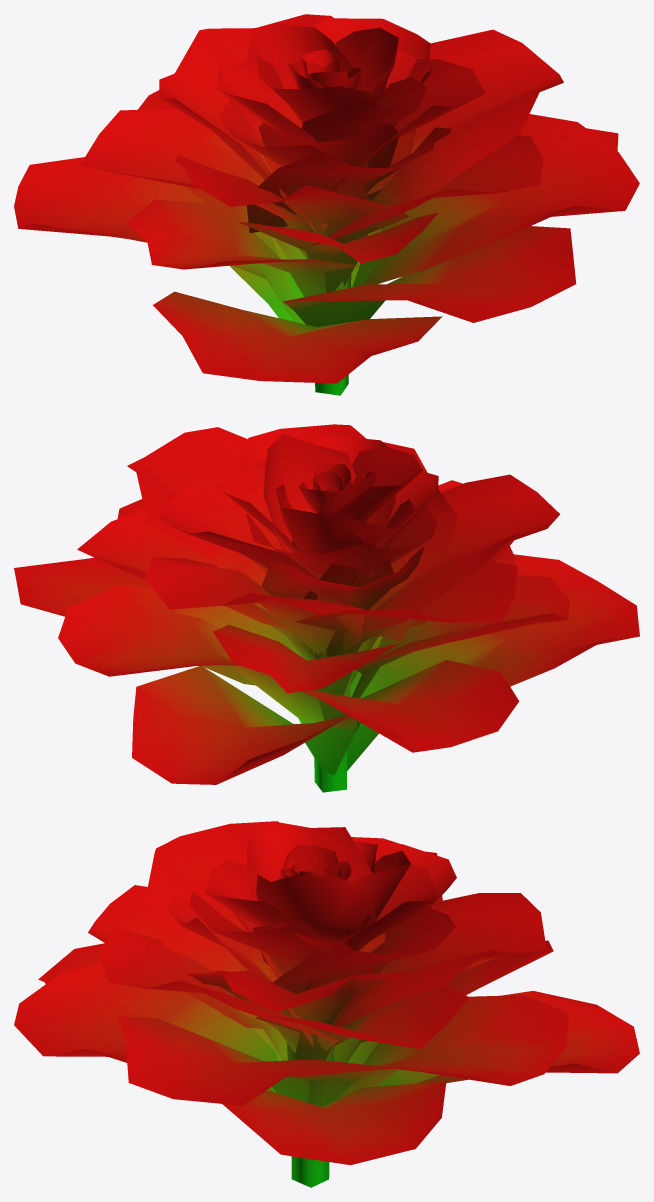
Rendered from Purple Ornamental Kale_LOD3_Var3_ugdieawja.fbx.
3 renders of one model, top to bottom at view 1: azimuth 30°, elevation 25°; view 2: azimuth 150°, elevation 25°; view 3: azimuth 270°, elevation 25°, orthographic. The views are drawn at different scales.
Visible parts, largest first — view 1: _3dc2_Var3_LOD3; view 2: _3dc2_Var3_LOD3; view 3: _3dc2_Var3_LOD3.
Part boxes in pixels (left/top/right/bottom): _3dc2_Var3_LOD3: left=14, top=14, right=639, bottom=395; _3dc2_Var3_LOD3: left=14, top=424, right=639, bottom=792; _3dc2_Var3_LOD3: left=14, top=821, right=639, bottom=1187.
Bounding box in the file's own units: 51.41 × 30.36 × 51.9.
